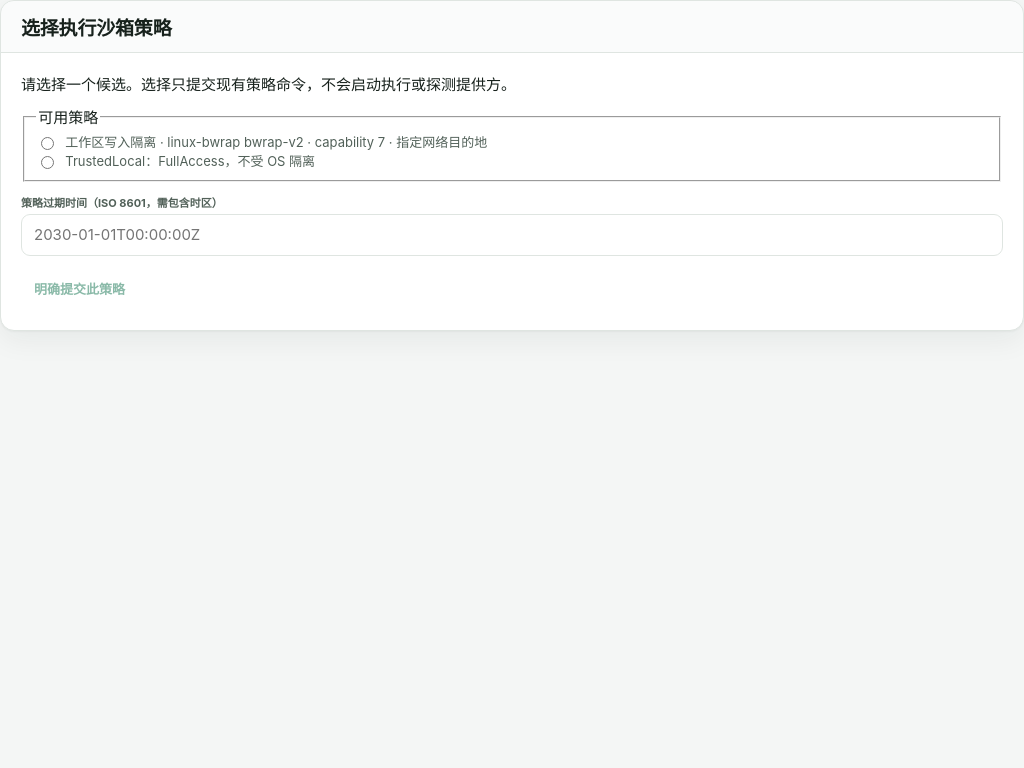
Scenario: DecideSandboxPolicyForm › maps ActionRevision stale receipts to the generic refetch state without auto-retry
In the field labelled "策略过期时间（ISO 8601，需包含时区）": (512, 235) [21,214,1003,256], type "2099-10-12T08:30:00Z"
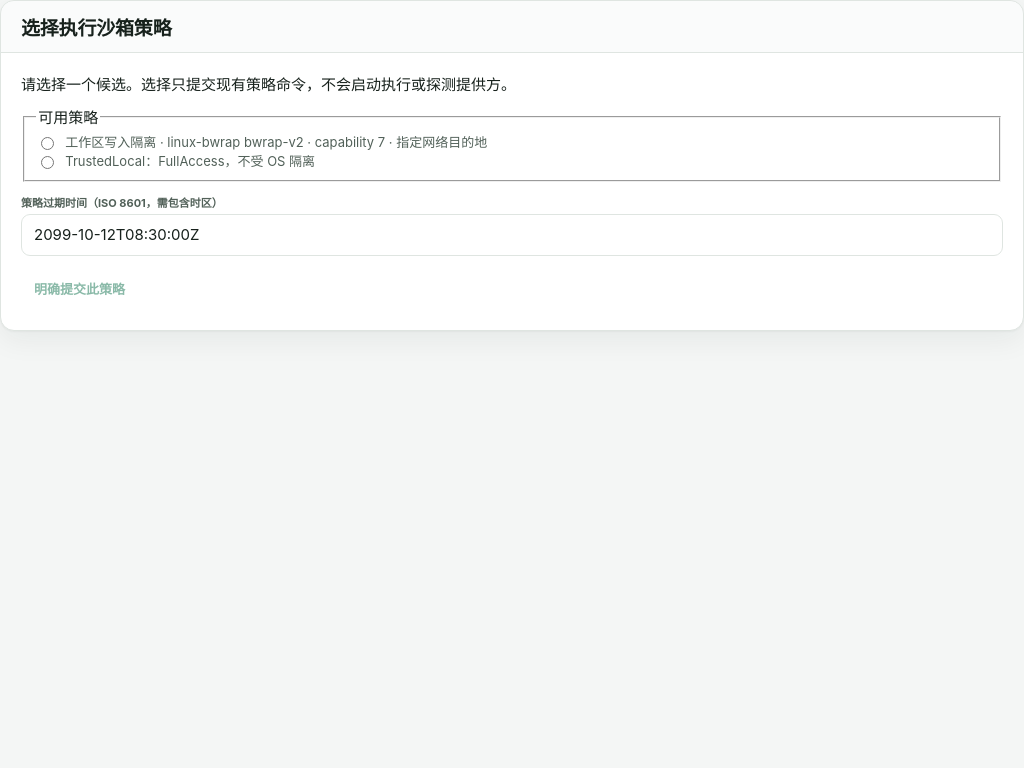
Click the radio button labelled "工作区写入隔离 · linux-bwrap bwrap-v2 · capability 7 · 指定网络目的地": click(48, 143) [41,137,54,150]
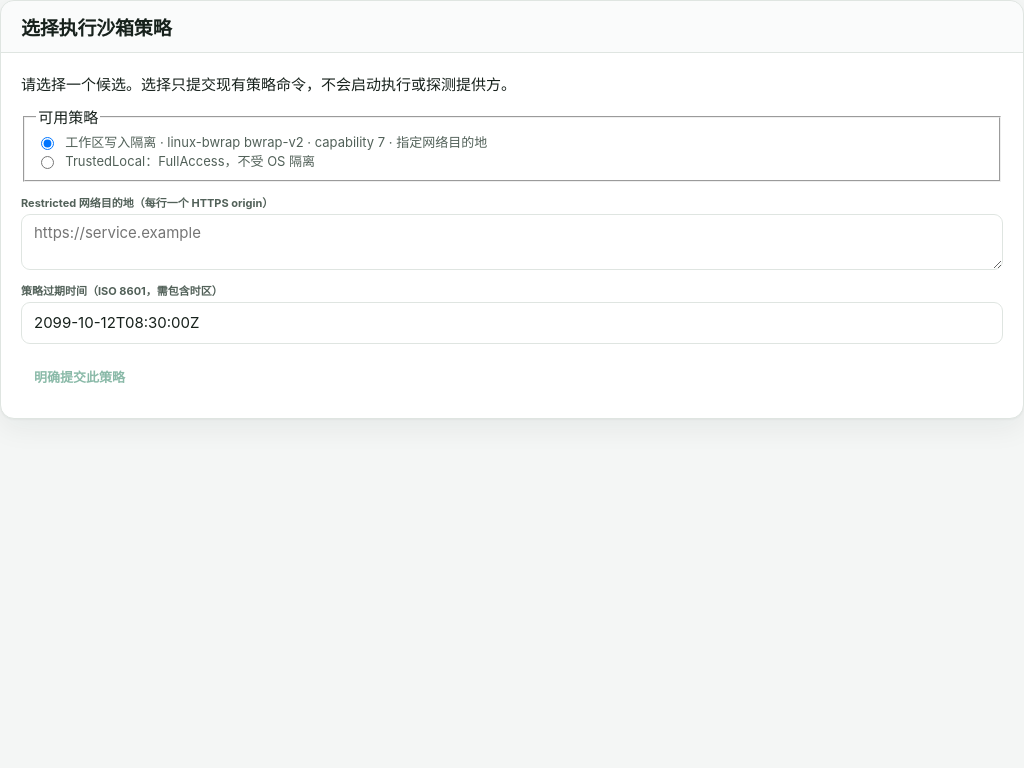
In the text box labelled "Restricted 网络目的地（每行一个 HTTPS origin）": (512, 242) [21,214,1003,270], type "https://a.example"
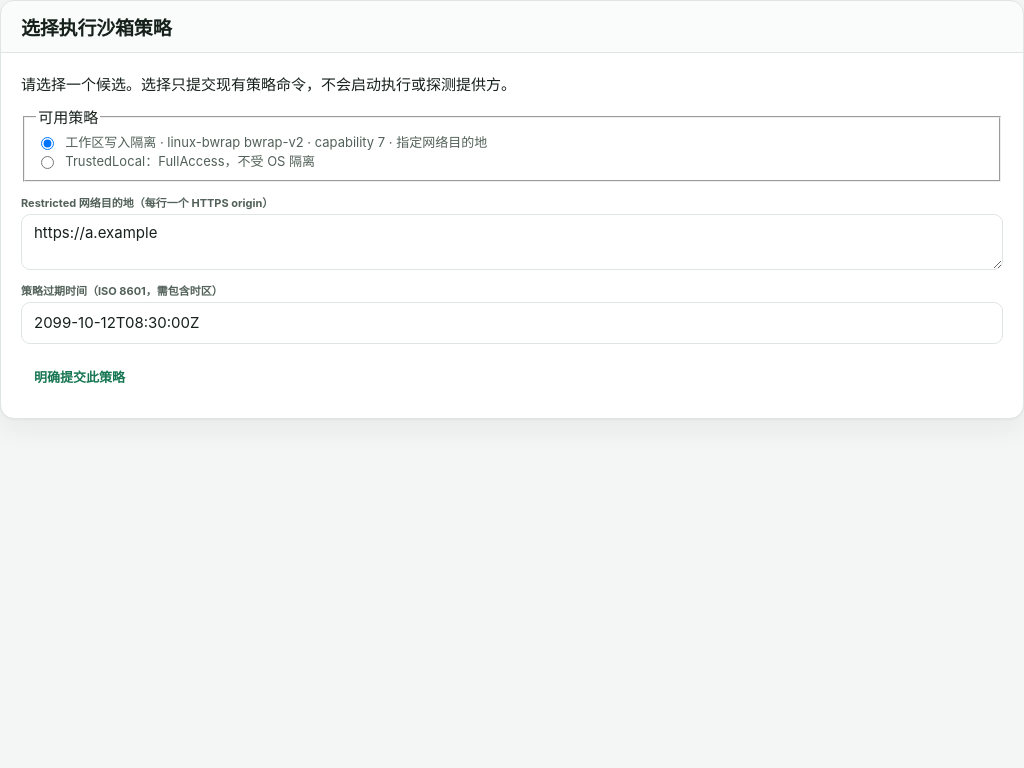
Click the button "明确提交此策略": click(80, 377) [21,356,138,398]
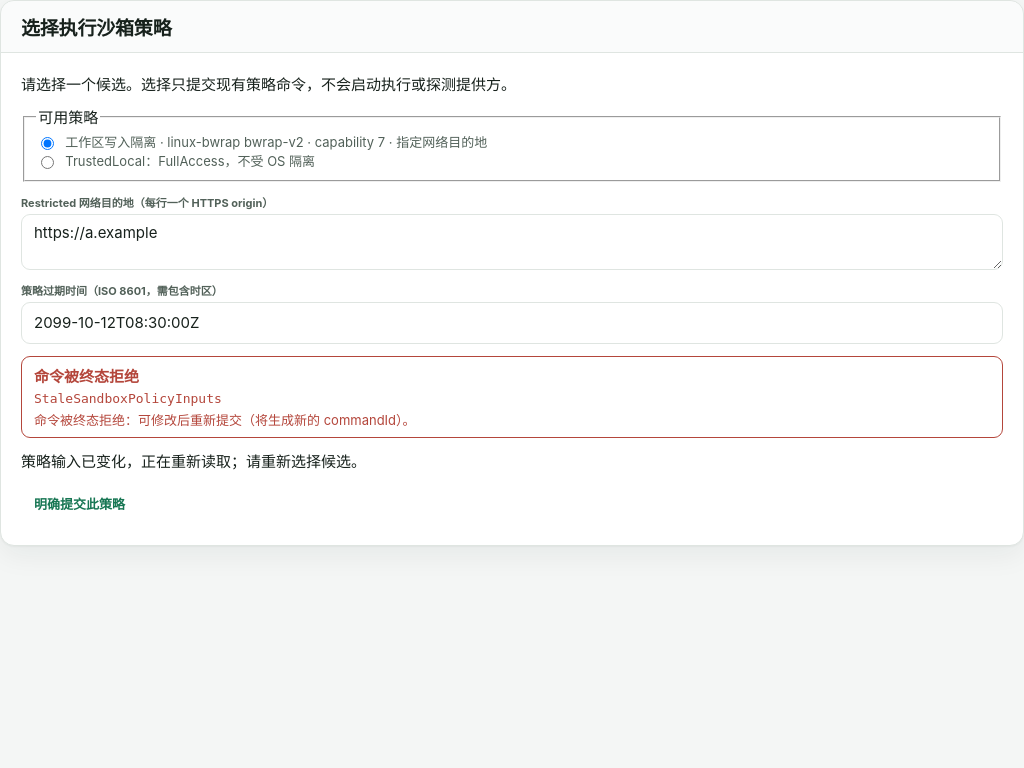
Expected: the message "策略输入已变化，正在重新读取；请重新选择候选。" is shown, [21,452,366,471]
